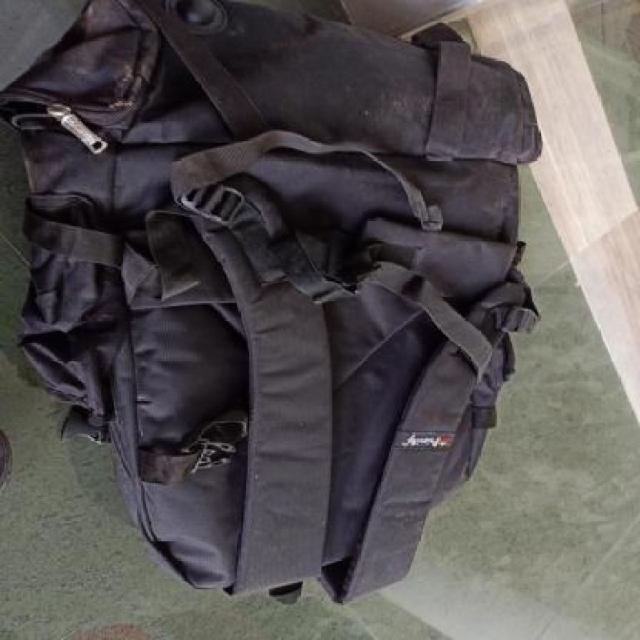backpack: (3, 0, 548, 609)
